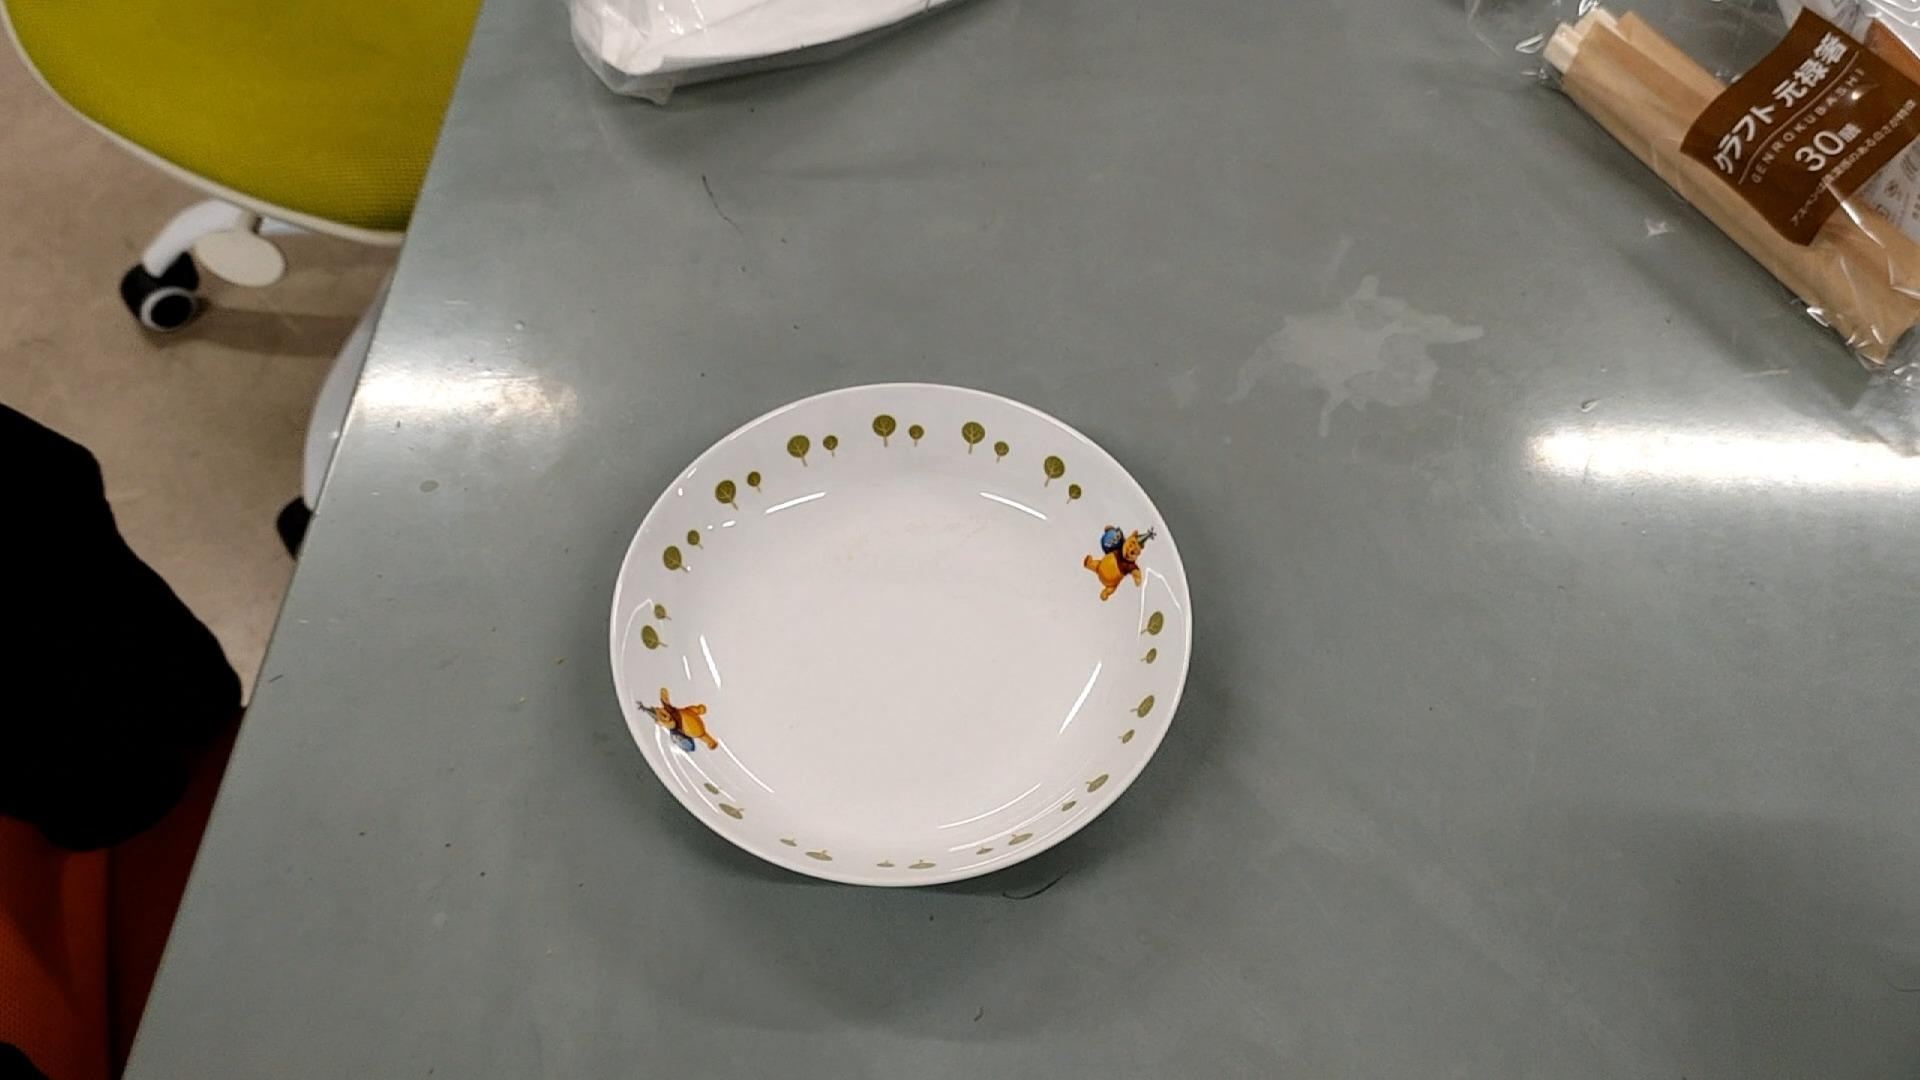plate: (616, 382, 1195, 890)
